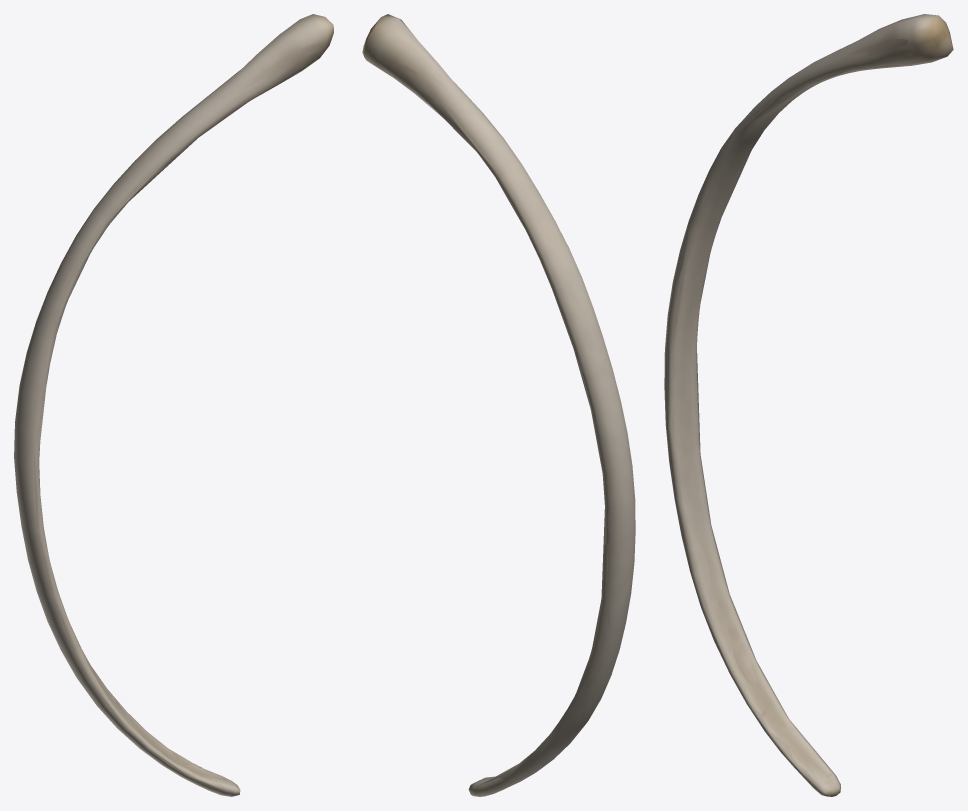
The model's file is Rib R09.fbx.
3 views of the same model, side by side, from view 1: azimuth 30°, elevation 25°; view 2: azimuth 150°, elevation 25°; view 3: azimuth 330°, elevation 25° (orthographic). The views are drawn at different scales.
Visible parts, largest first — view 1: Rib R09, Rib R09 low, Rib R09 high; view 2: Rib R09, Rib R09 low, Rib R09 high; view 3: Rib R09, Rib R09 high, Rib R09 low.
Part boxes in pixels (bbox=[...]): Rib R09: bbox=[14, 14, 333, 796]; Rib R09 low: bbox=[14, 15, 331, 796]; Rib R09 high: bbox=[16, 27, 317, 794]; Rib R09: bbox=[362, 14, 635, 796]; Rib R09 low: bbox=[362, 18, 635, 795]; Rib R09 high: bbox=[371, 32, 633, 795]; Rib R09: bbox=[664, 14, 953, 796]; Rib R09 high: bbox=[673, 18, 943, 793]; Rib R09 low: bbox=[664, 16, 952, 796].
Bounding box in the file's own units: 7.59 × 18.88 × 2.24.
Materials: 1 (1 with a texture image).
